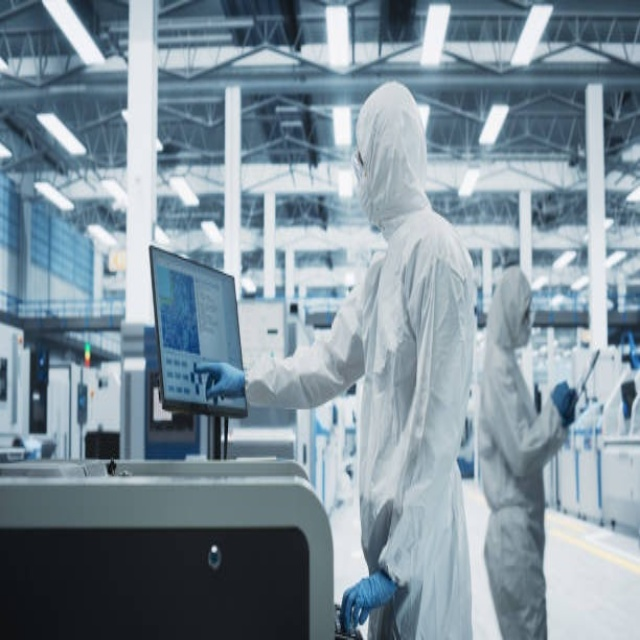Gafas: (353, 149, 365, 178), (522, 303, 531, 326)
Guantes: (340, 571, 399, 635), (194, 362, 247, 403), (551, 381, 578, 426)
Mascara: (355, 158, 377, 227), (518, 316, 532, 348)
